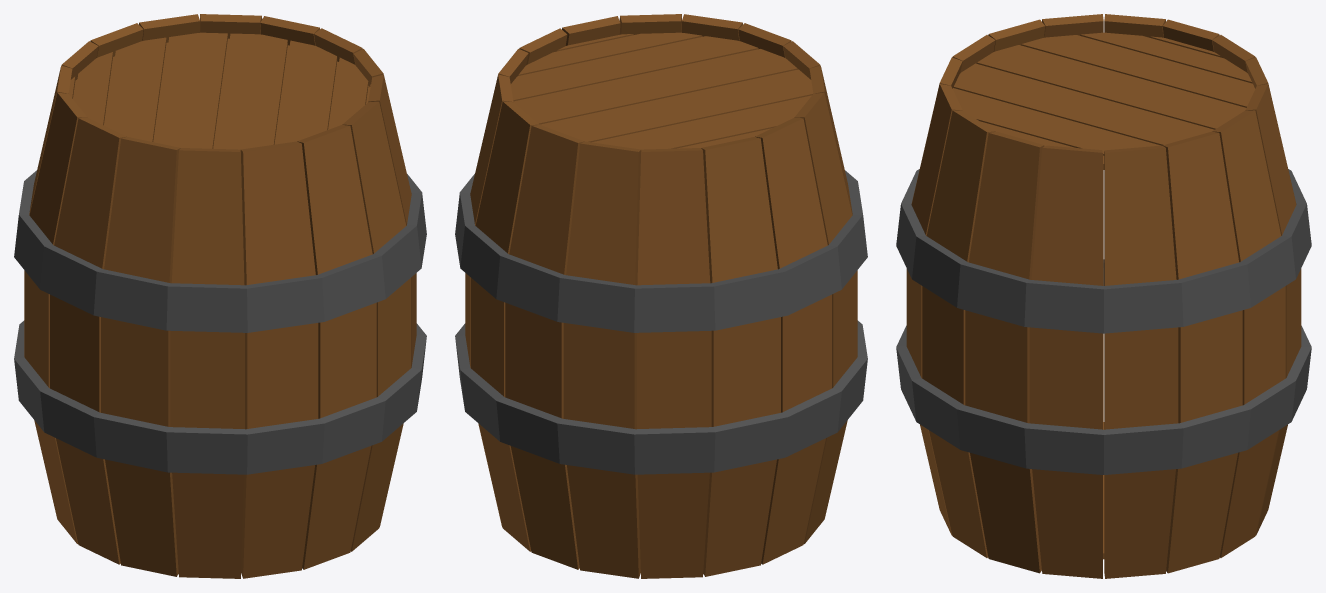
The model's file is Barrel.fbx.
3 renders of one model, left to right at view 1: azimuth 30°, elevation 25°; view 2: azimuth 150°, elevation 25°; view 3: azimuth 270°, elevation 25°, orthographic.
Parts seen in each view (by area): view 1: Barrel; view 2: Barrel; view 3: Barrel.
Boxes of the visible parts, x1,y1,x2,y2 form: Barrel: (14, 14, 426, 578); Barrel: (455, 14, 867, 578); Barrel: (896, 14, 1311, 578).
Bounding box in the file's own units: 0.8841 × 1 × 0.8841.
